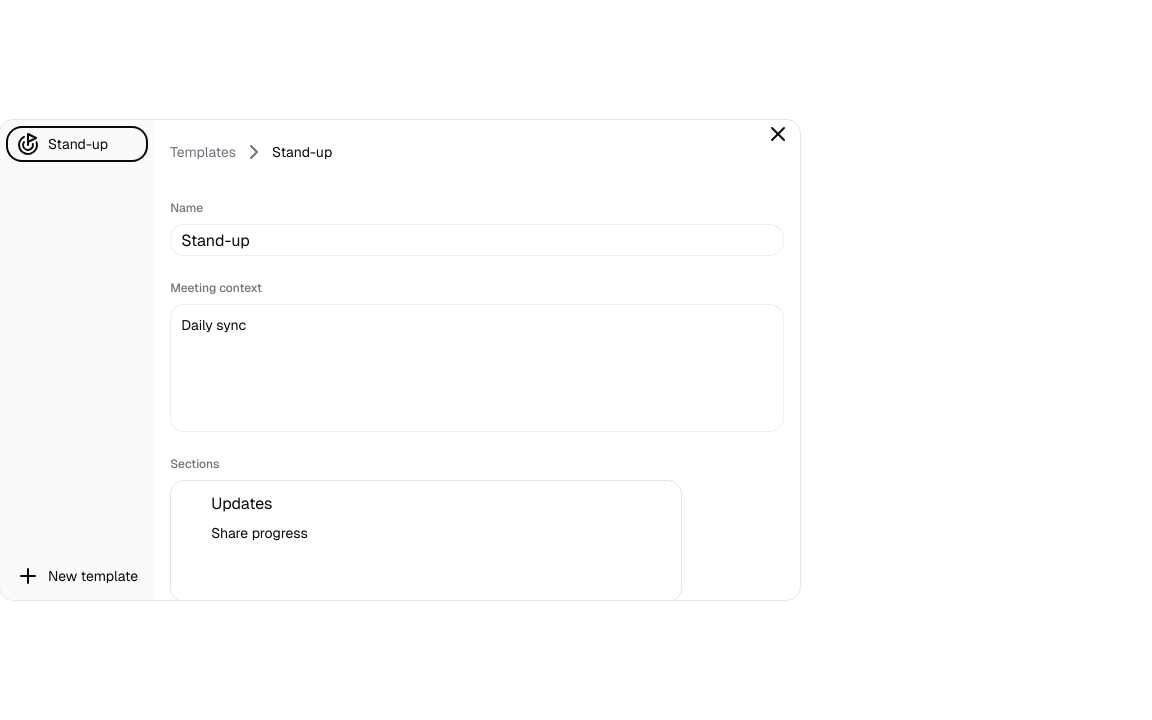
Test: manage dialog create actions › adds a new template draft from the sidebar action
Click the button "New template".
click(77, 576)  # box [8,560,146,592]
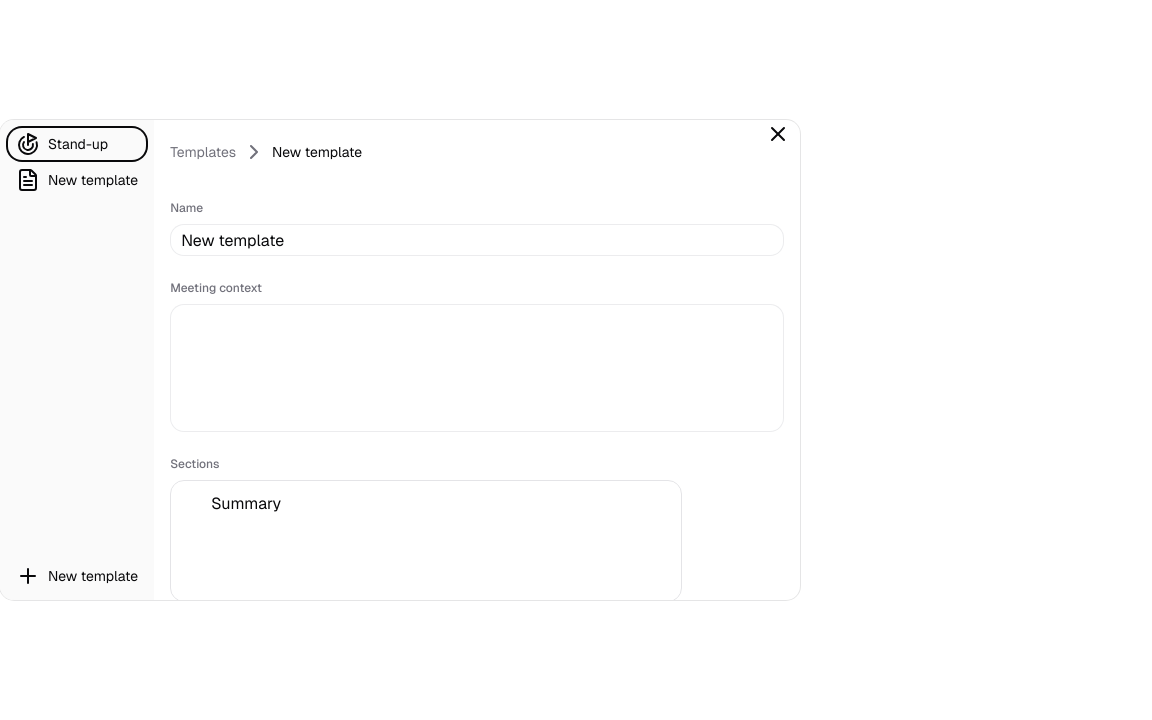
Now the field showing "New template" is shown, box [170,224,784,256]
Now the field showing "Summary" is shown, box [211,489,625,517]
